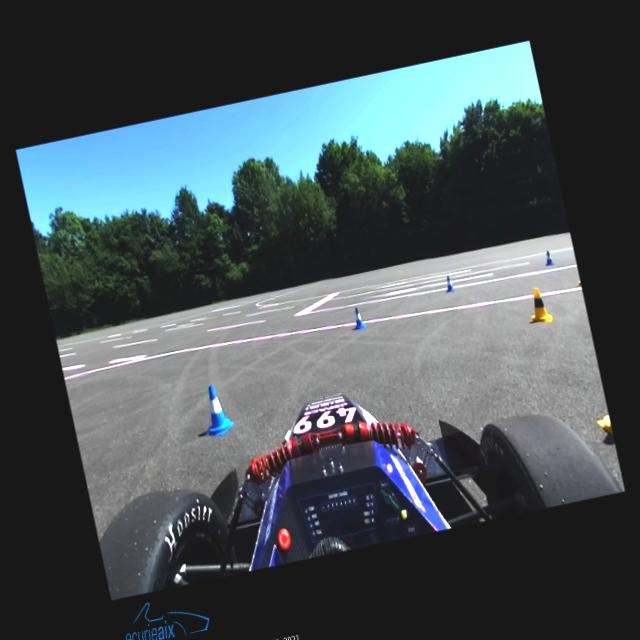blue_cone: (197, 382, 236, 436), (351, 306, 366, 330), (443, 275, 454, 292), (542, 250, 554, 265)
yellow_cone: (522, 286, 552, 325)
